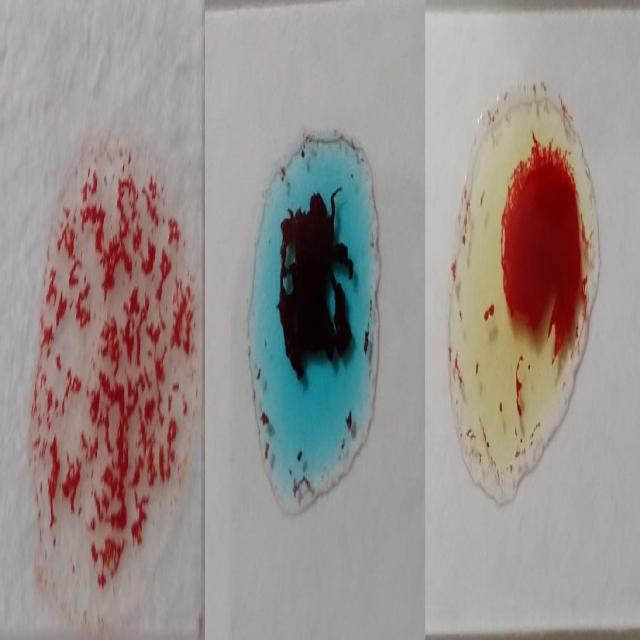A: (247, 130, 386, 503)
B: (457, 86, 600, 497)
D: (36, 130, 191, 596)
